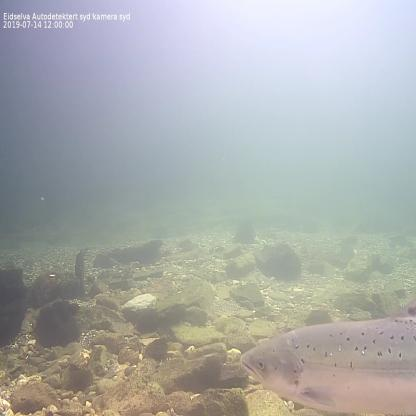salmon: (237, 295, 416, 416)
